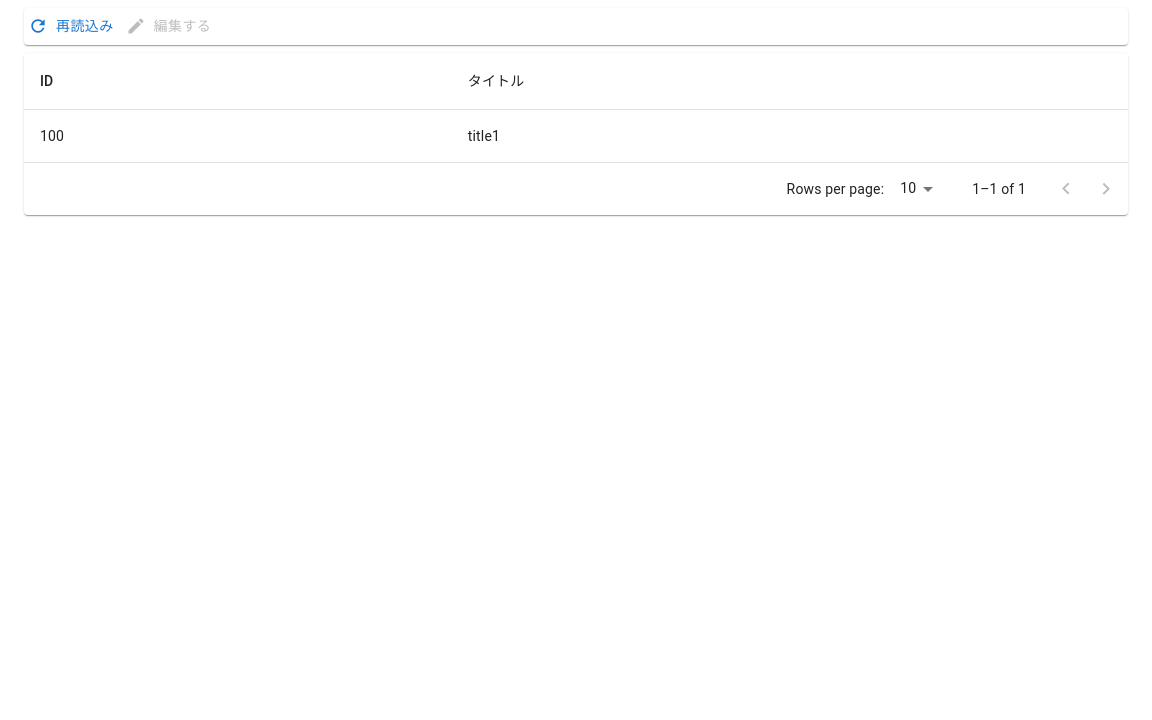
Scenario: ArticleList › アクション › 行を選択して編集ボタンを押した場合 › 編集ダイアログを表示する
Click the text "title1": click(790, 136) [452,110,1128,162]
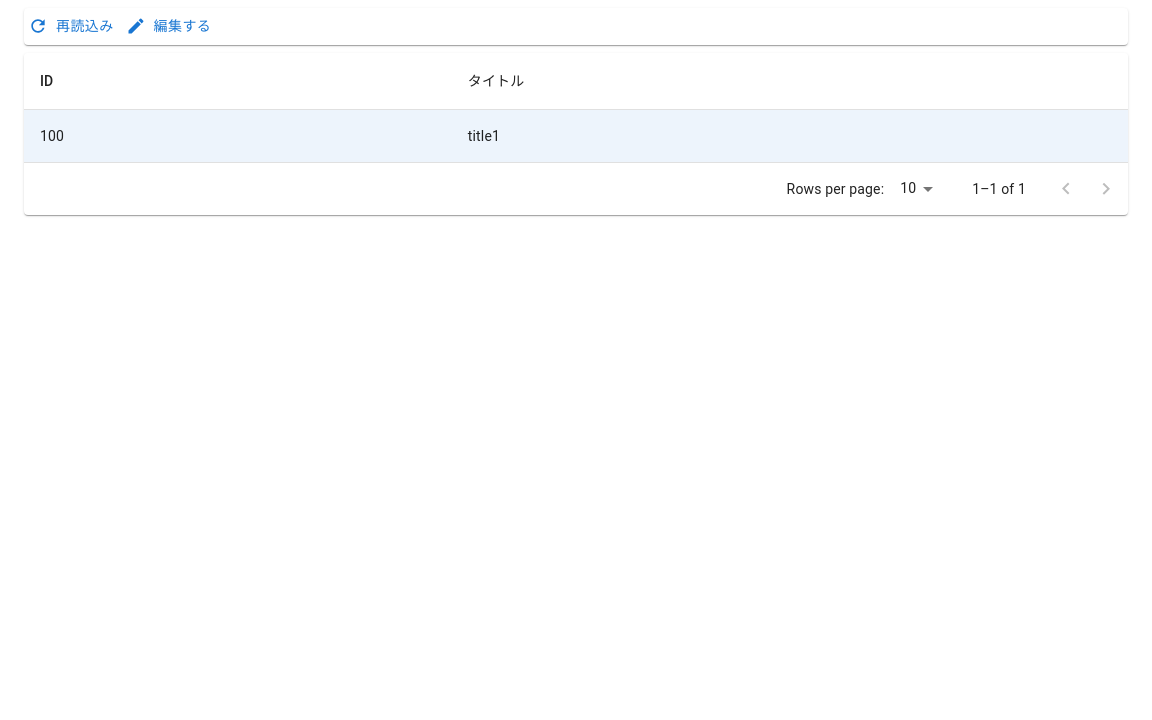
Click the button with test id "editButton": click(170, 26) [122,8,219,44]
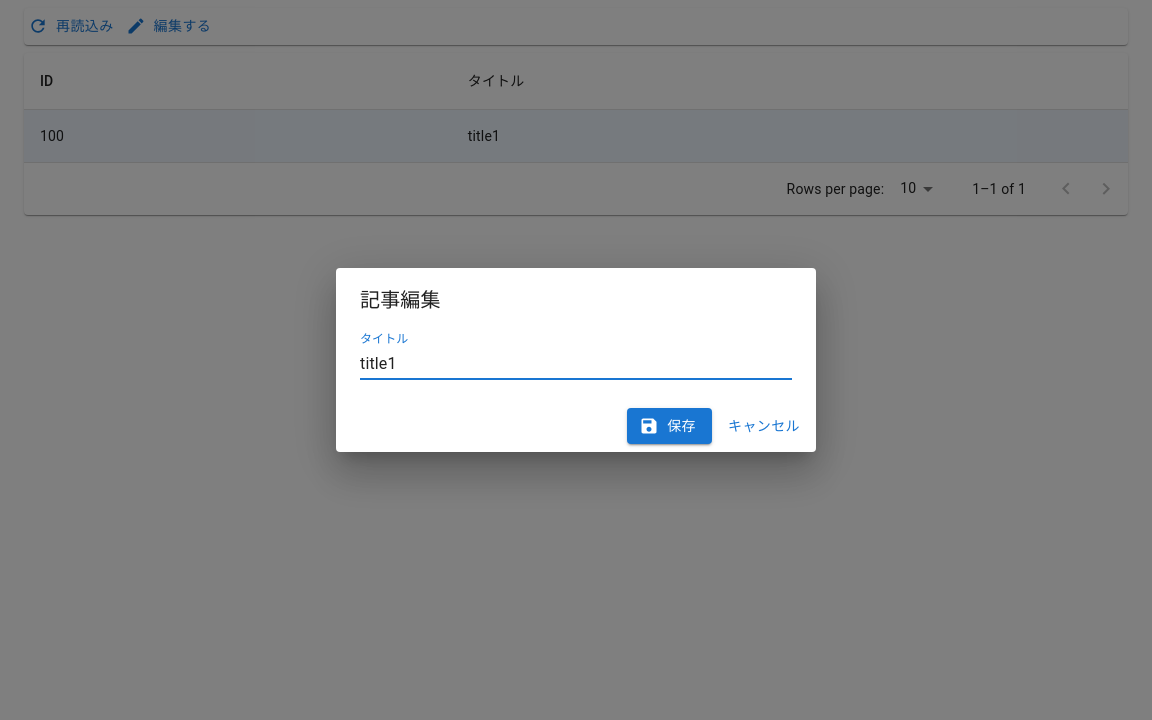
expect the element with test id "articleEditDialog" is shown: met
